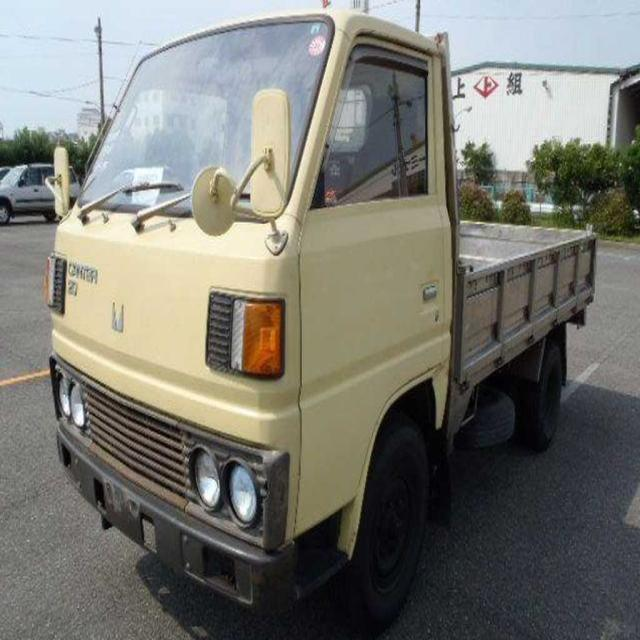truck: (42, 4, 602, 616)
